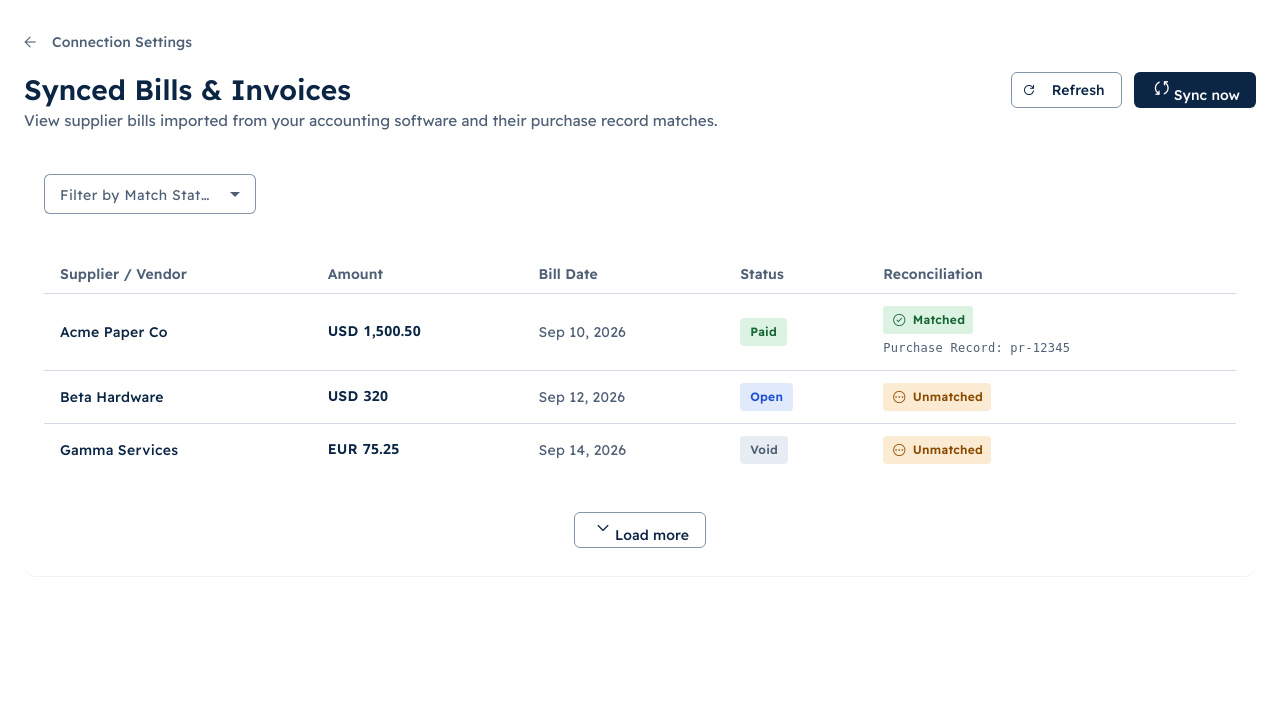
Test: BillsComponent (T026) › Load more pagination › should show "Load more" button when next_cursor is present and append items on click
The width and height of the screenshot is (1280, 720).
What coordinates should you click on to do the following:
click the button with test id "load-more-btn"
I would click on:
 (640, 530)
Its box is [574, 512, 706, 548].
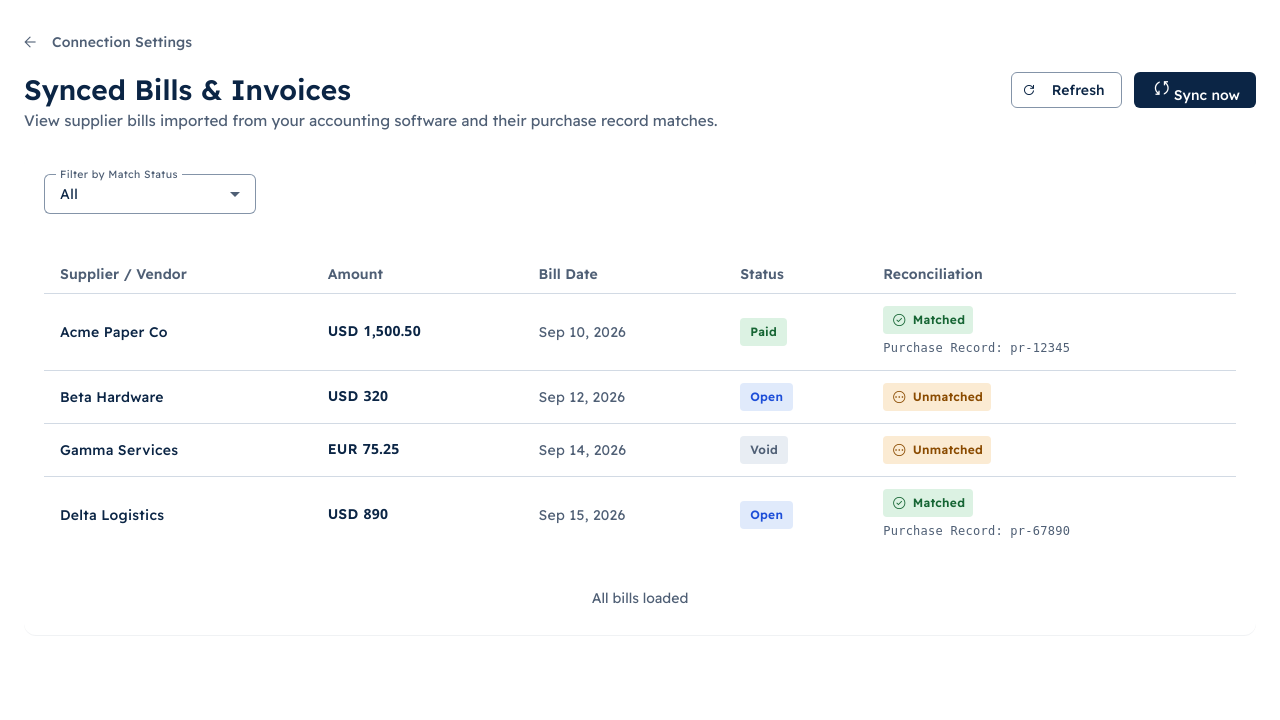
Expected: the button with test id "load-more-btn" is gone
Expected: the text with test id "no-more-bills" reads "All bills loaded", [592, 589, 688, 607]
